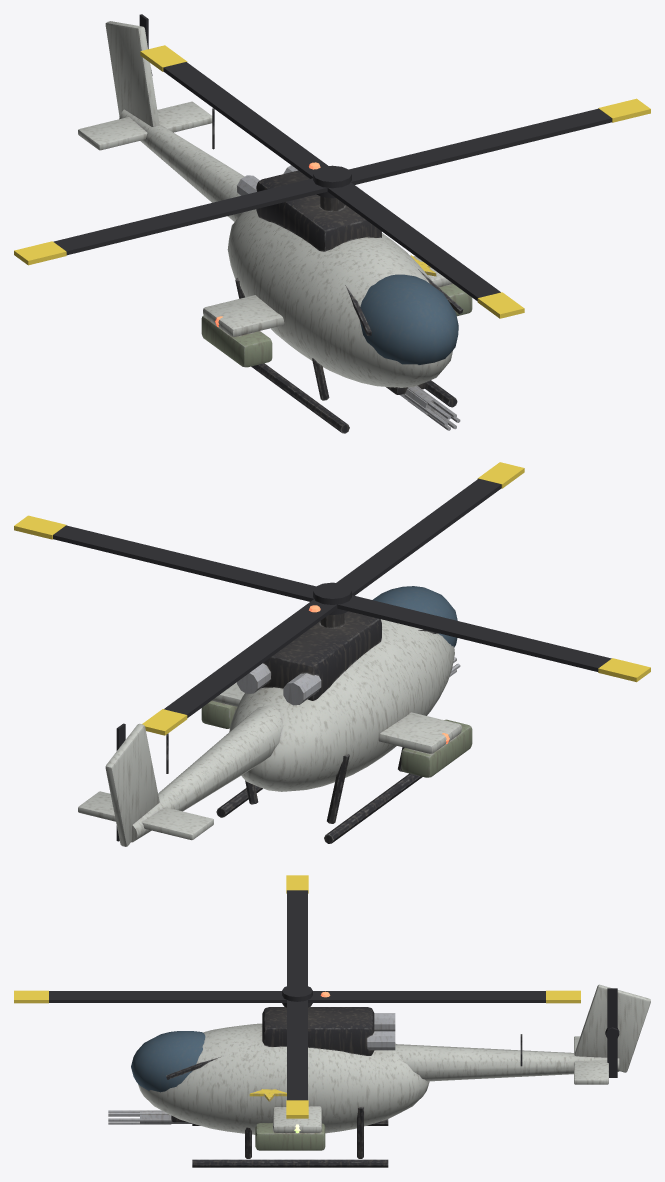
File: red_heli.glb
The picture shows the model from 3 angles, top to bottom: view 1: azimuth 30°, elevation 25°; view 2: azimuth 150°, elevation 25°; view 3: azimuth 270°, elevation 25°; orthographic projection. The views are drawn at different scales.
Parts seen in each view (by area): view 1: Hull, Rotor; view 2: Hull, Rotor; view 3: Hull, Rotor, TailRotor.
Boxes of the visible parts, x1,y1,x2,y2 form: Hull: [78, 21, 472, 433]; Rotor: [14, 45, 650, 318]; Hull: [78, 586, 472, 846]; Rotor: [14, 462, 650, 735]; Hull: [108, 984, 650, 1167]; Rotor: [14, 875, 580, 1118]; TailRotor: [605, 988, 619, 1077].
Size of the model in its own units: 8.1 by 2.56 by 9.1.
Materials: 10 (8 with a texture image).
